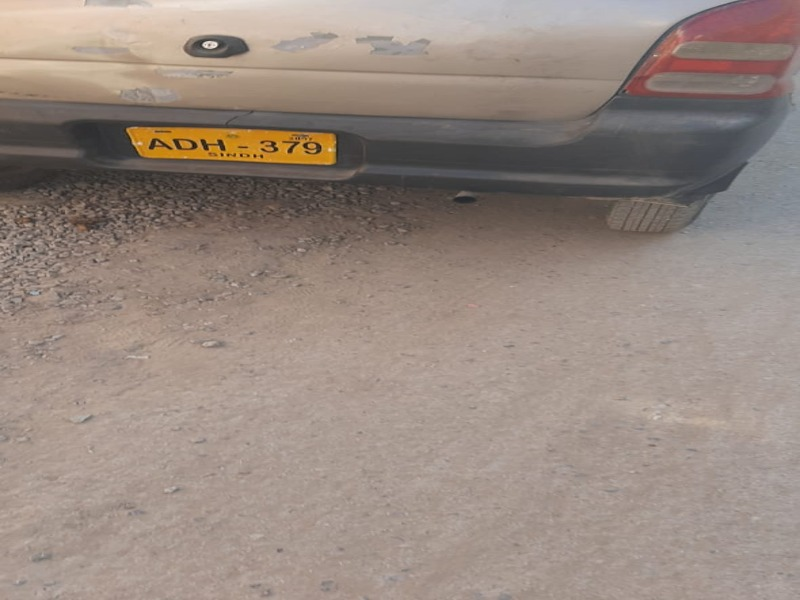License Plate: (120, 120, 342, 174)
